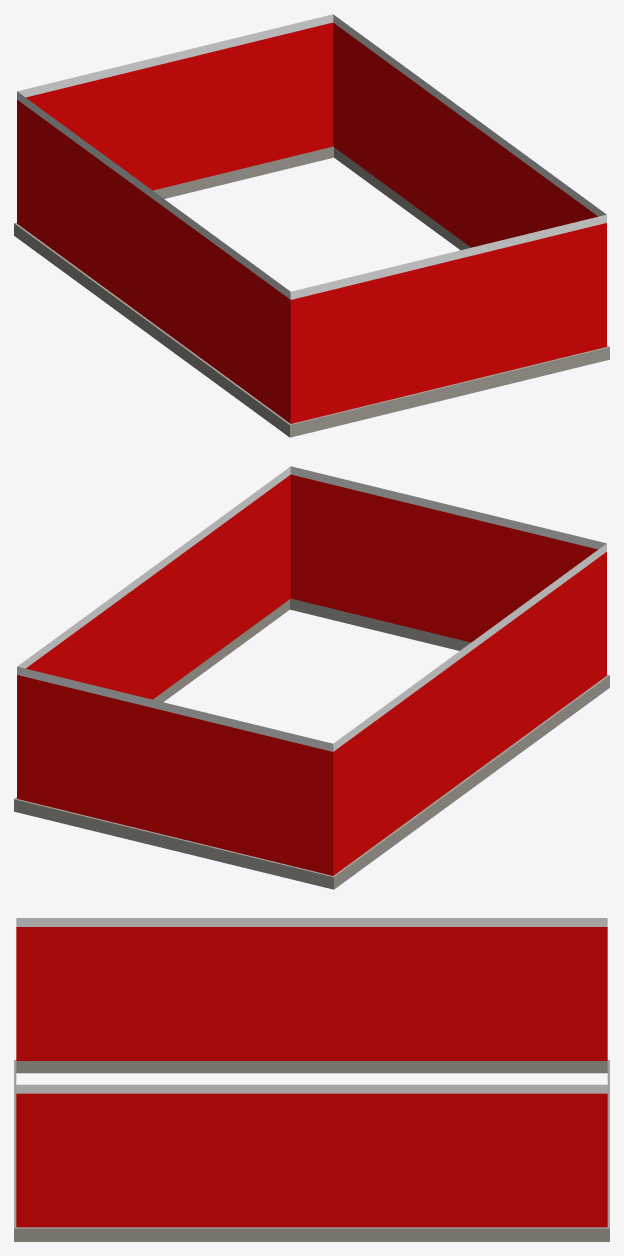
The model's file is SmallFloor.fbx.
3 views of the same model, one above another, from view 1: azimuth 30°, elevation 25°; view 2: azimuth 150°, elevation 25°; view 3: azimuth 270°, elevation 25° (orthographic). The views are drawn at different scales.
Visible parts, largest first — view 1: SmallFloor_LOD0; view 2: SmallFloor_LOD0; view 3: SmallFloor_LOD0.
Boxes of the visible parts, <box> form: SmallFloor_LOD0: <box>14,14,609,437</box>; SmallFloor_LOD0: <box>14,466,609,889</box>; SmallFloor_LOD0: <box>14,918,609,1241</box>.
Size of what is drawn, in the model's own units: 1620 by 700 by 2420.
